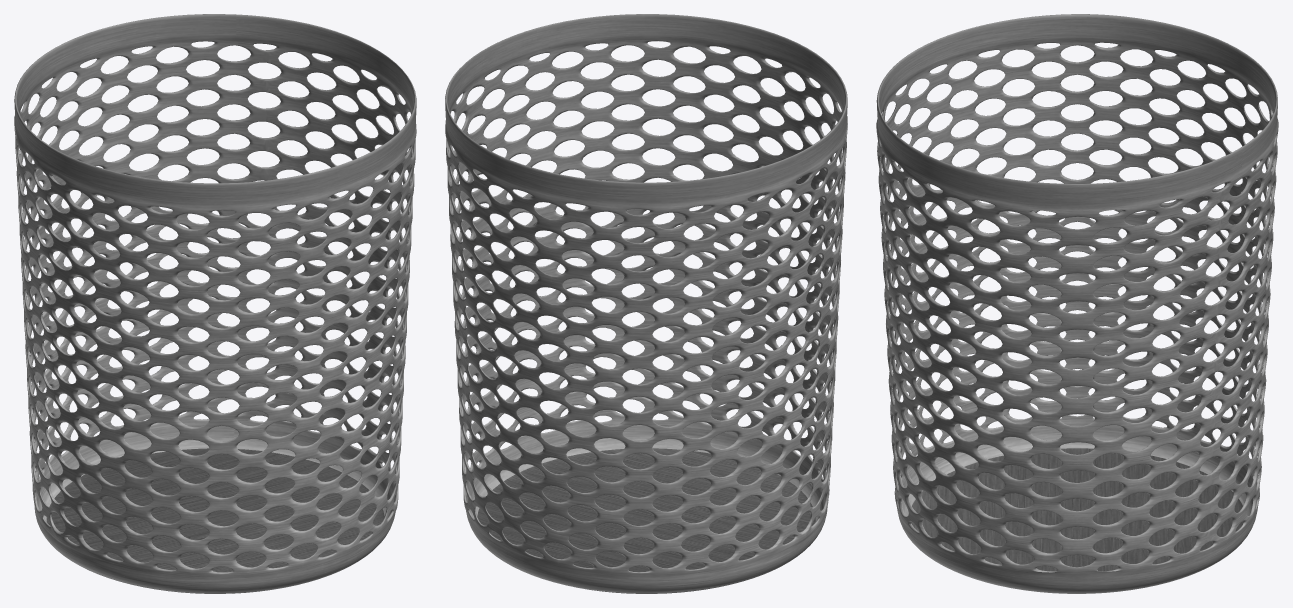
The model's file is TrashBin.fbx.
The picture shows the model from 3 angles, left to right: view 1: azimuth 30°, elevation 25°; view 2: azimuth 150°, elevation 25°; view 3: azimuth 270°, elevation 25°; orthographic projection.
Visible parts, largest first — view 1: pCylinder1; view 2: pCylinder1; view 3: pCylinder1.
Boxes of the visible parts, bbox=[...] form: pCylinder1: bbox=[14, 14, 416, 593]; pCylinder1: bbox=[445, 14, 847, 593]; pCylinder1: bbox=[876, 14, 1278, 593].
Bounding box in the file's own units: 1.49 × 1.74 × 1.49.
Materials: 1 (1 with a texture image).
